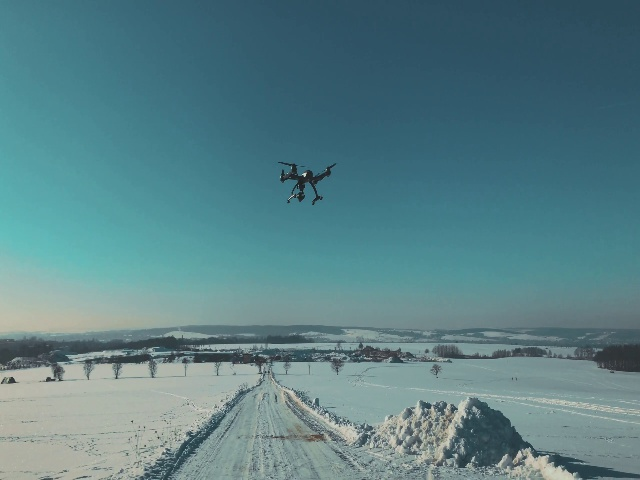drone: (277, 161, 338, 207)
